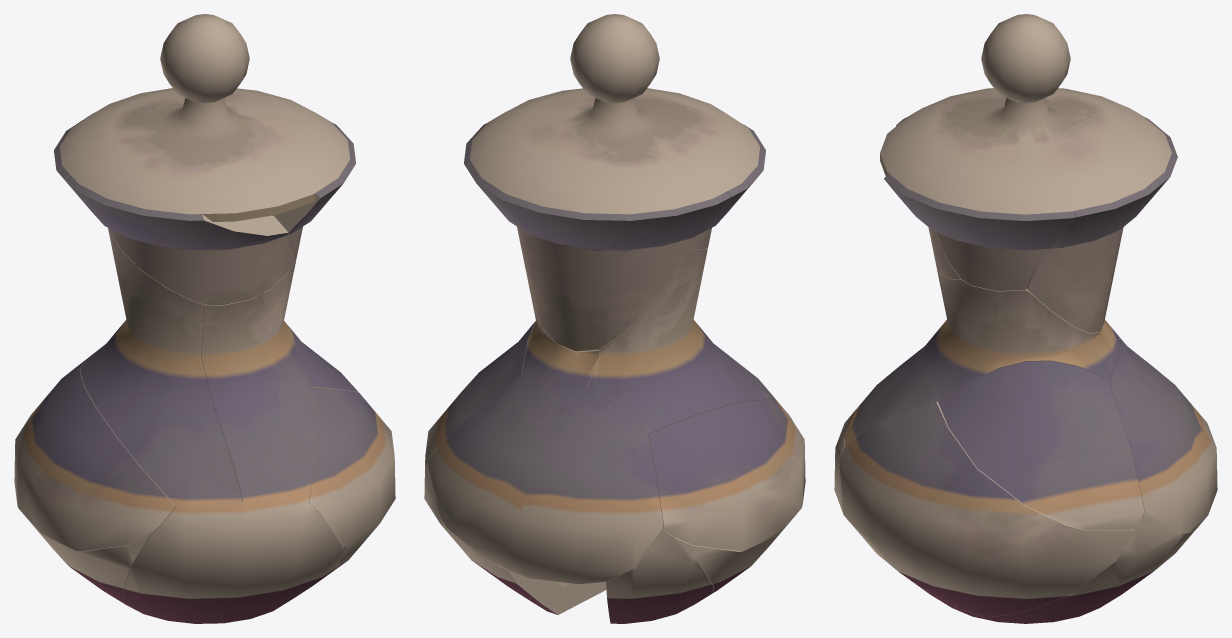
File: POT_Generic_Smashed.fbx
3 views of the same model, side by side, from view 1: azimuth 30°, elevation 25°; view 2: azimuth 150°, elevation 25°; view 3: azimuth 270°, elevation 25° (orthographic).
Visible parts, largest first — view 1: jar1Tap, jar1_cell.008, jar1_cell.003, jar1_cell.004, jar1_cell.017, jar1_cell.006, jar1_cell.018, jar1_cell.012, jar1_cell.010, jar1_cell.016; view 2: jar1_cell.007, jar1Tap, jar1_cell.011, jar1_cell.017, jar1_cell.008, jar1_cell.009, jar1_cell.016, jar1_cell, jar1_cell.004, jar1_cell.012, jar1_cell.006; view 3: jar1Tap, jar1_cell.018, jar1_cell.016, jar1_cell.004, jar1_cell.007, jar1_cell.011, jar1_cell.010, jar1_cell, jar1_cell.003, jar1_cell.006.
Part boxes in pixels (x1,y1,x2,y2): jar1Tap: [59, 14, 349, 221]; jar1_cell.008: [80, 239, 242, 506]; jar1_cell.003: [124, 501, 342, 623]; jar1_cell.004: [201, 258, 317, 502]; jar1_cell.017: [14, 368, 175, 551]; jar1_cell.006: [65, 175, 292, 305]; jar1_cell.018: [309, 387, 395, 571]; jar1_cell.012: [14, 464, 152, 603]; jar1_cell.010: [274, 122, 355, 261]; jar1_cell.016: [289, 327, 357, 392]; jar1_cell.007: [427, 374, 663, 584]; jar1Tap: [470, 14, 760, 214]; jar1_cell.011: [464, 142, 731, 351]; jar1_cell.017: [648, 399, 805, 551]; jar1_cell.008: [587, 249, 780, 434]; jar1_cell.009: [606, 529, 713, 623]; jar1_cell.016: [425, 321, 535, 469]; jar1_cell: [424, 467, 606, 614]; jar1_cell.004: [522, 303, 599, 387]; jar1_cell.012: [673, 464, 805, 592]; jar1_cell.006: [690, 124, 765, 249]; jar1Tap: [880, 14, 1171, 214]; jar1_cell.018: [839, 401, 1134, 616]; jar1_cell.016: [937, 361, 1144, 529]; jar1_cell.004: [844, 268, 1120, 444]; jar1_cell.007: [1109, 338, 1217, 533]; jar1_cell.011: [1027, 117, 1177, 333]; jar1_cell.010: [884, 173, 1075, 291]; jar1_cell: [981, 517, 1194, 623]; jar1_cell.003: [834, 406, 984, 619]; jar1_cell.006: [896, 117, 961, 279].
Size of the model in its own units: 2.41 by 3.93 by 2.41.
Materials: 1 (1 with a texture image).
